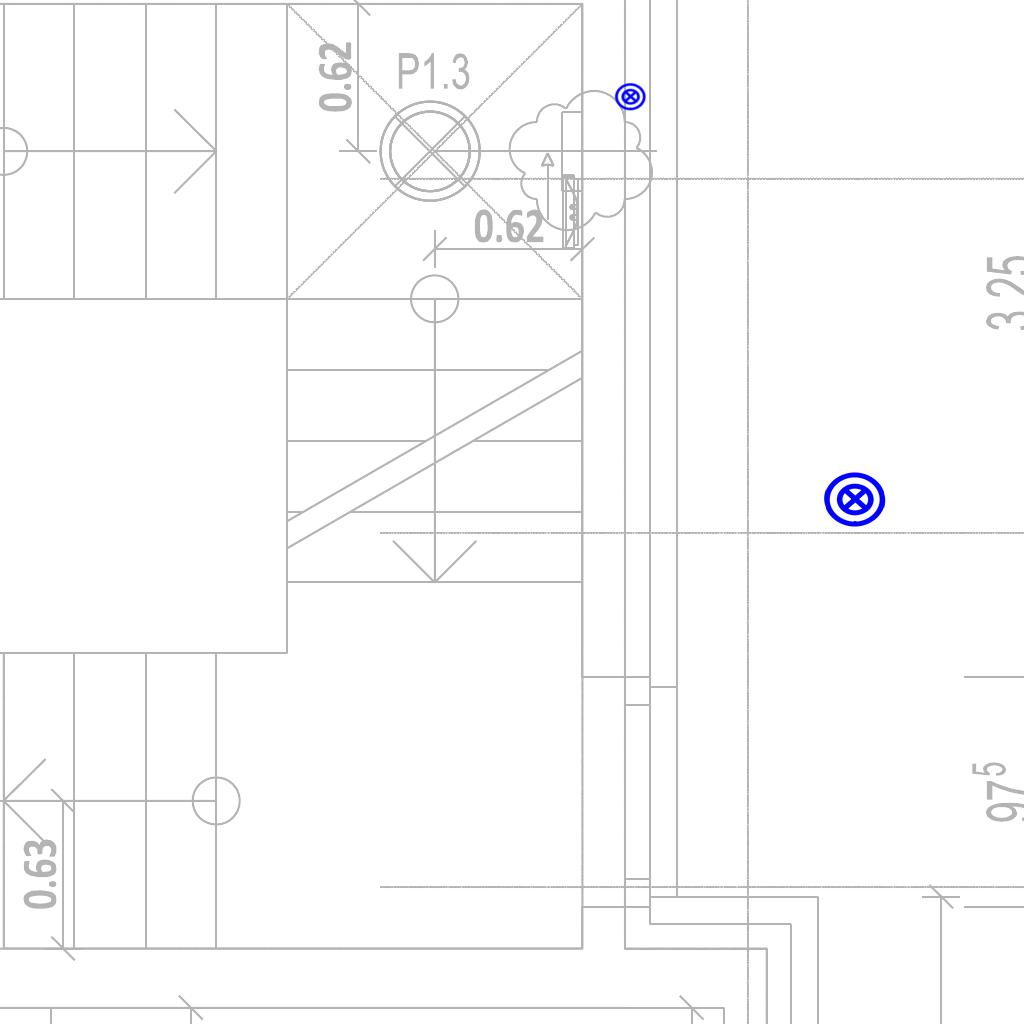Taster_beleuchtet: (821, 465, 889, 533), (614, 80, 647, 113)
